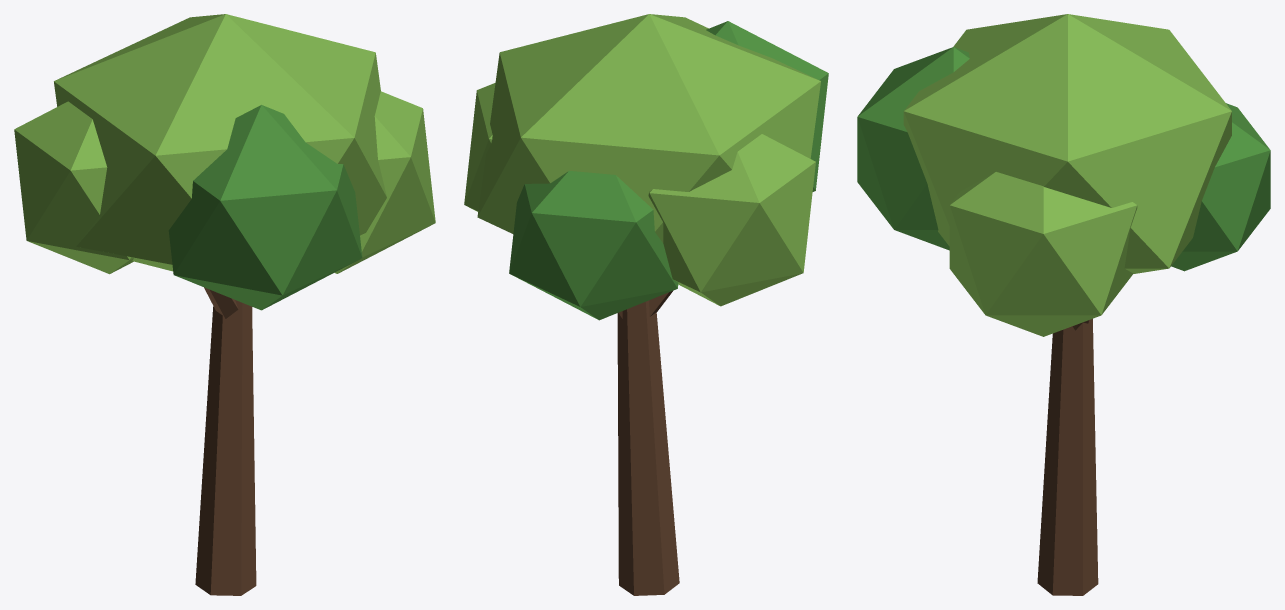
The model's file is tree_c.glb.
The picture shows the model from 3 angles, left to right: view 1: azimuth 30°, elevation 25°; view 2: azimuth 150°, elevation 25°; view 3: azimuth 270°, elevation 25°; orthographic projection.
Visible parts, largest first — view 1: tree_c; view 2: tree_c; view 3: tree_c.
Boxes of the visible parts, x1=… form: tree_c: x1=14, y1=14, x2=435, y2=595; tree_c: x1=464, y1=14, x2=828, y2=595; tree_c: x1=857, y1=14, x2=1270, y2=595.
Bounding box in the file's own units: 3.56 × 5.39 × 3.53.
